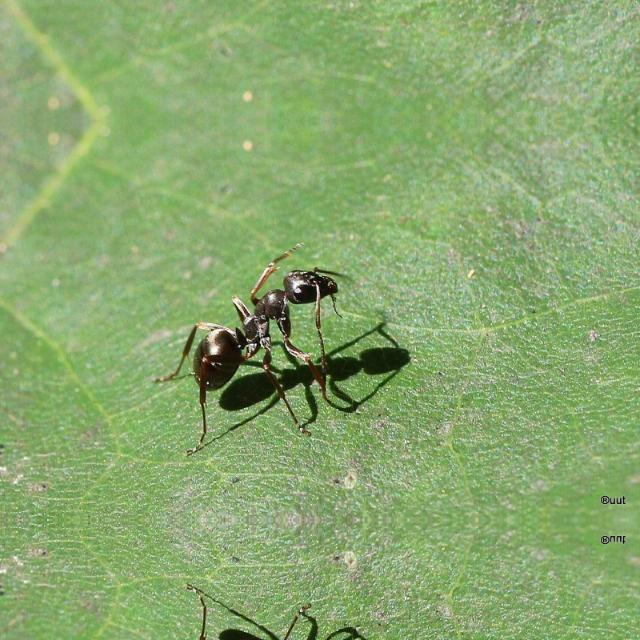Formica: (162, 233, 350, 422)
